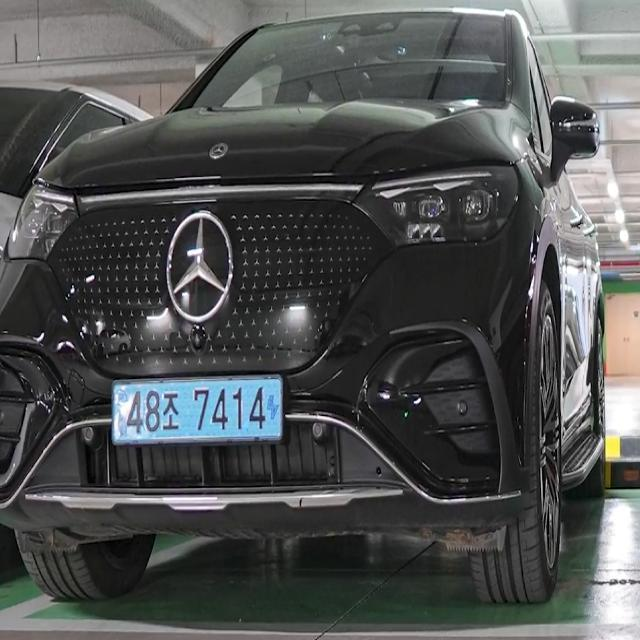car: (91, 365, 298, 453)
carev: (263, 377, 285, 443), (109, 382, 130, 448)
